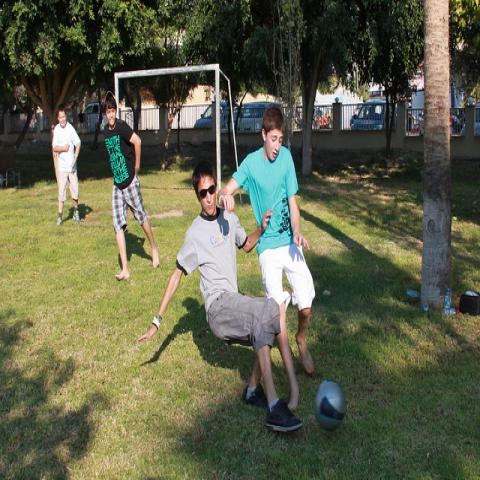car: (236, 101, 286, 134), (350, 100, 386, 130), (195, 101, 229, 128), (459, 102, 480, 136), (82, 103, 100, 113)
truck: (351, 100, 387, 130)
